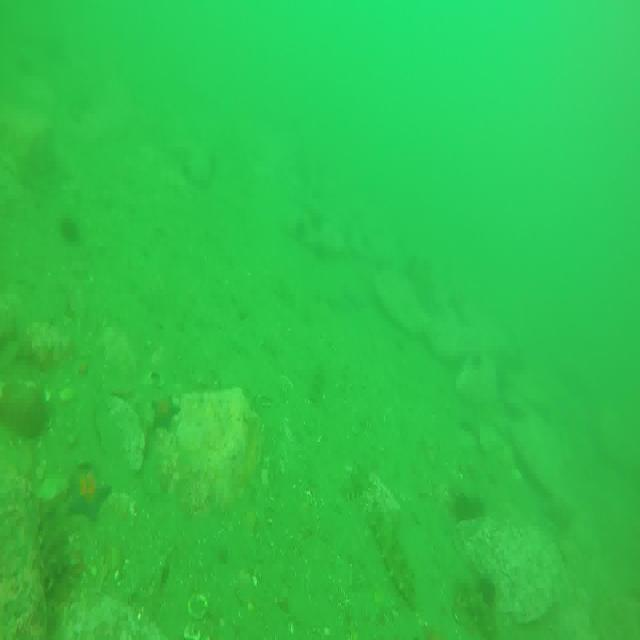echinus: (60, 214, 86, 246), (458, 488, 478, 526)
holothurian: (368, 500, 420, 611), (35, 492, 75, 602), (342, 466, 373, 506)
starfish: (68, 467, 114, 520), (151, 394, 179, 433)
